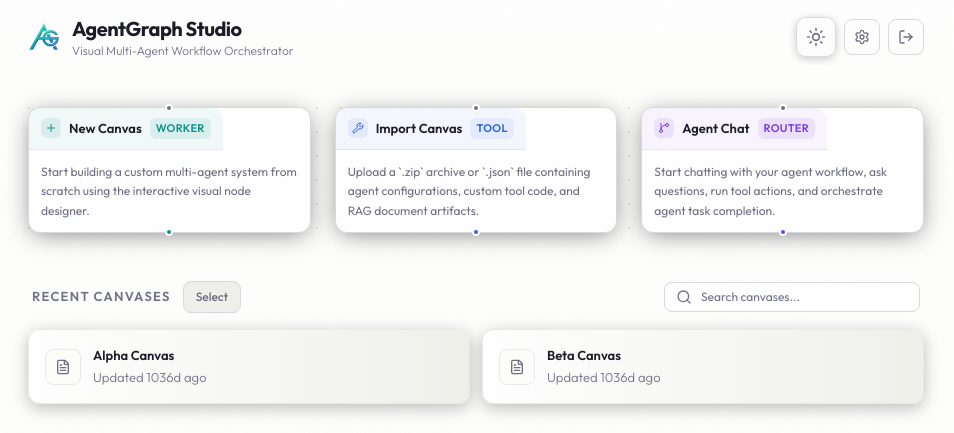
Test case: App — landing page › filters recent canvases list based on search query
Expected: the text "Alpha Canvas" is shown, left=93, top=347, right=174, bottom=363
Expected: the text "Beta Canvas" is shown, left=547, top=347, right=621, bottom=363
In the field with placeholder "Search canvases...": coordinates (792, 297) left=664, top=282, right=920, bottom=312, type "alpha"
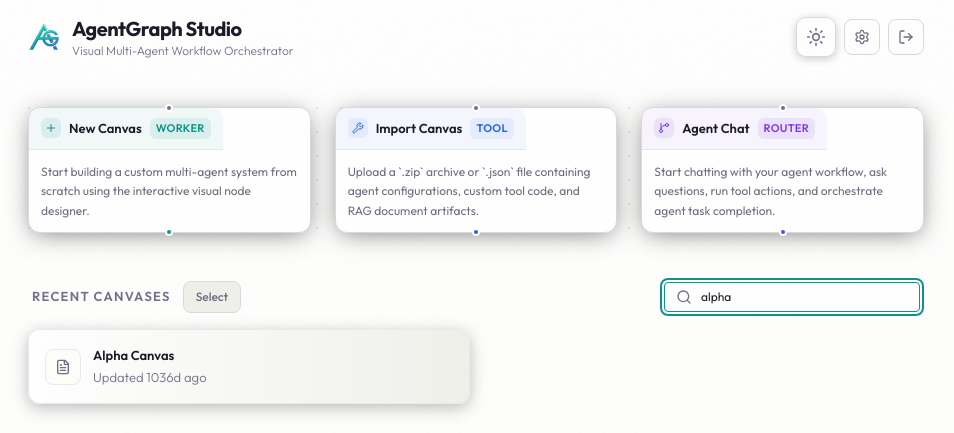
Expected: the text "Alpha Canvas" is shown, left=93, top=347, right=174, bottom=363
Now the link "Beta Canvas" is gone
